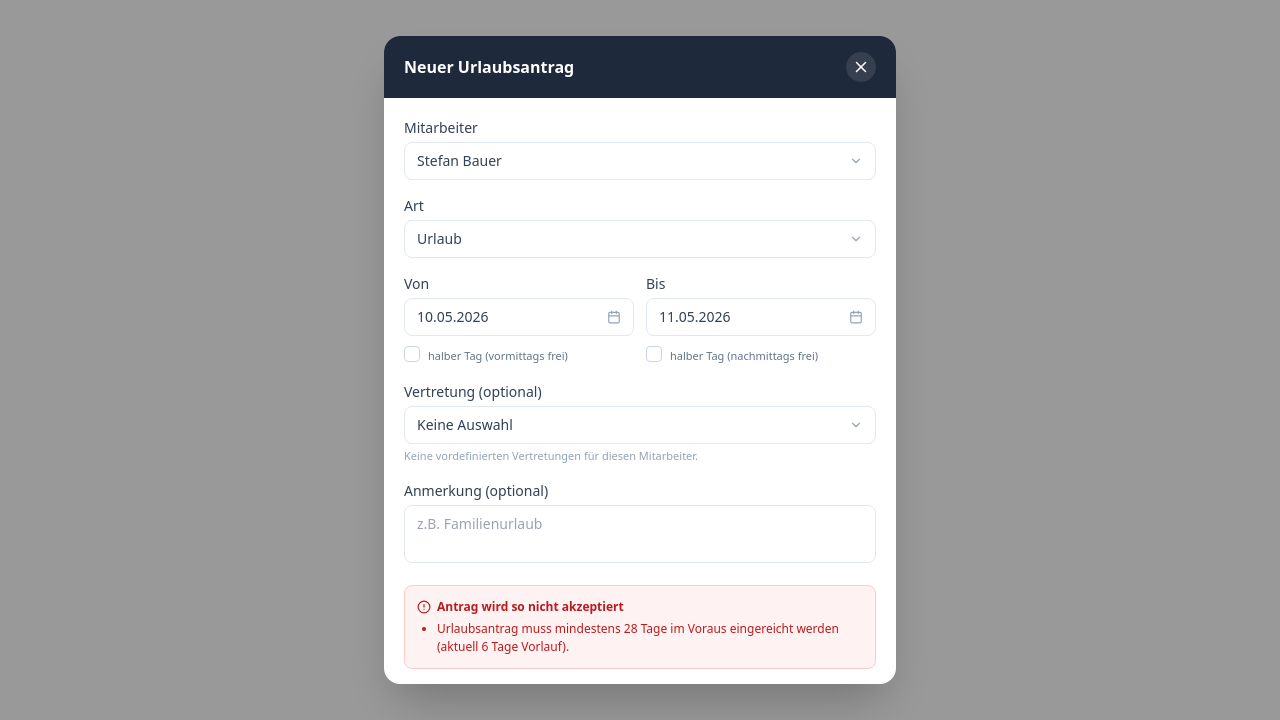
Test: LeaveRequestForm — Krankmeldung attachment › renders the file input when the type is Krankenstand
This screenshot has width=1280, height=720.
Step 1. Click the button with aria-label "Art der Abwesenheit" → [439, 238], box x1=404 y1=220 x2=876 y2=258
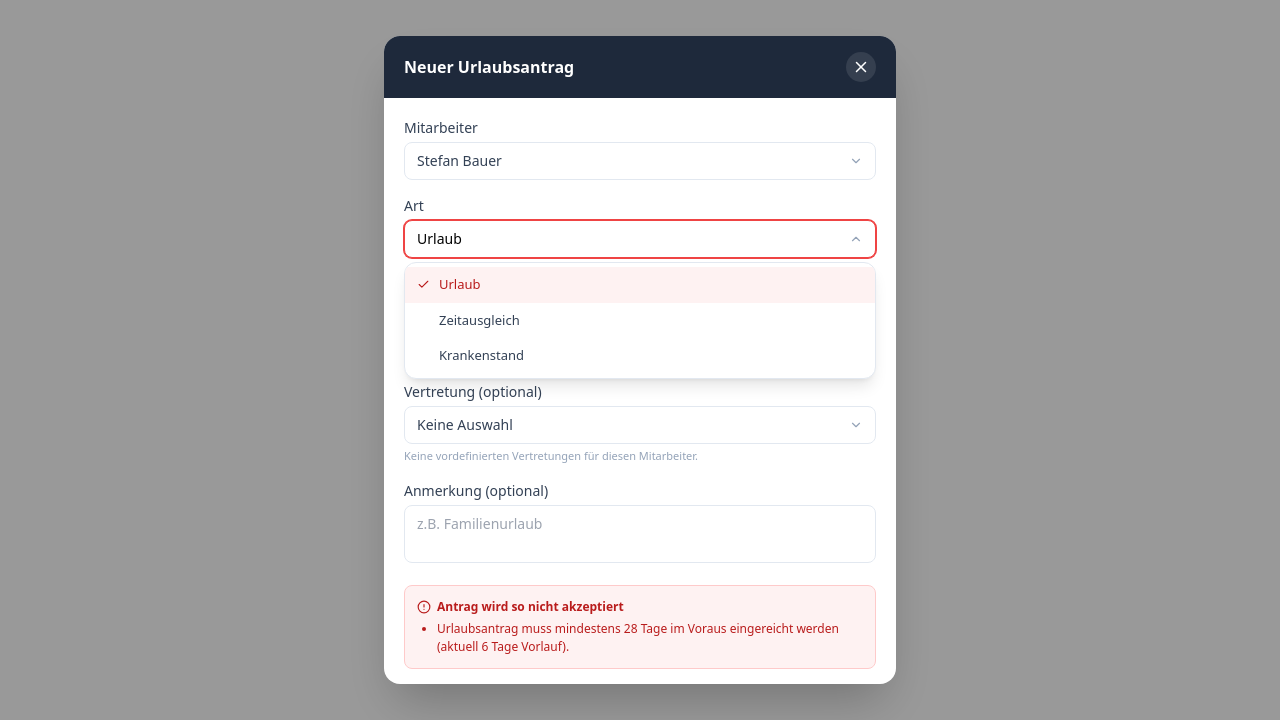
Step 2. Click the option "Krankenstand" → [482, 355], box x1=405 y1=338 x2=875 y2=374
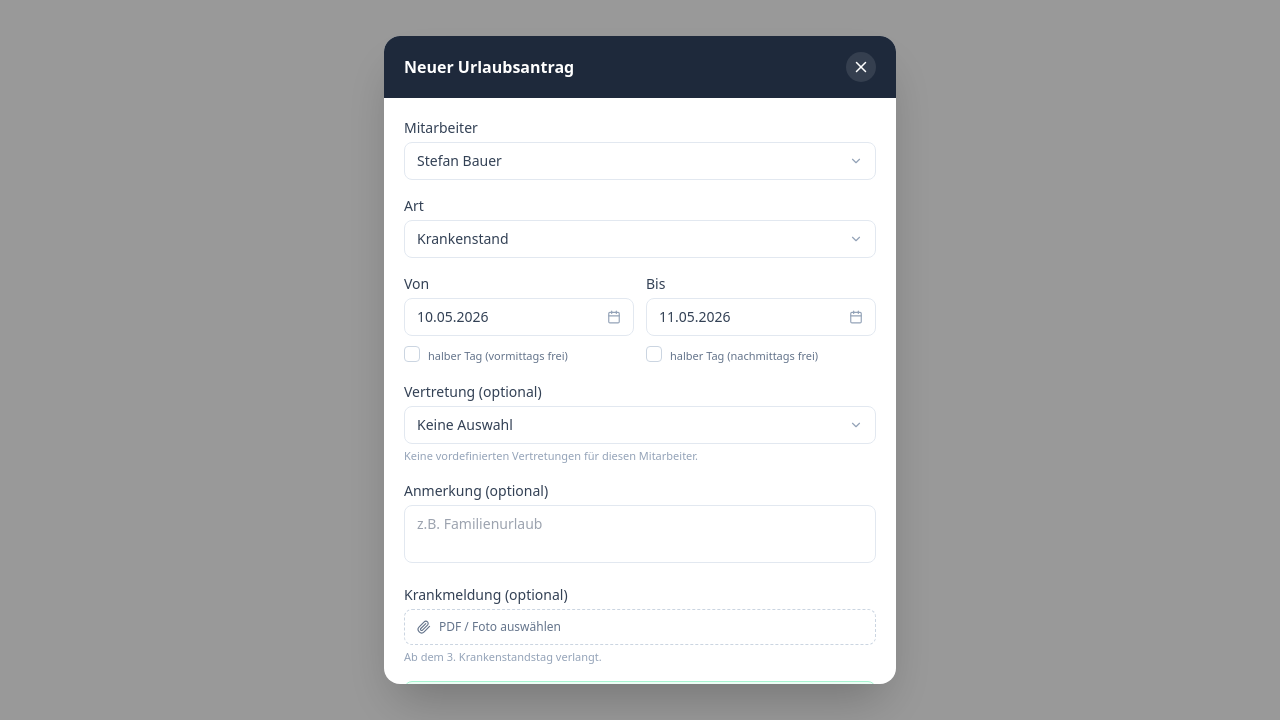
Now the text "Krankmeldung (optional)" is shown, box x1=404 y1=584 x2=568 y2=604
Now the button "PDF / Foto auswählen" is shown, box x1=404 y1=608 x2=876 y2=644
